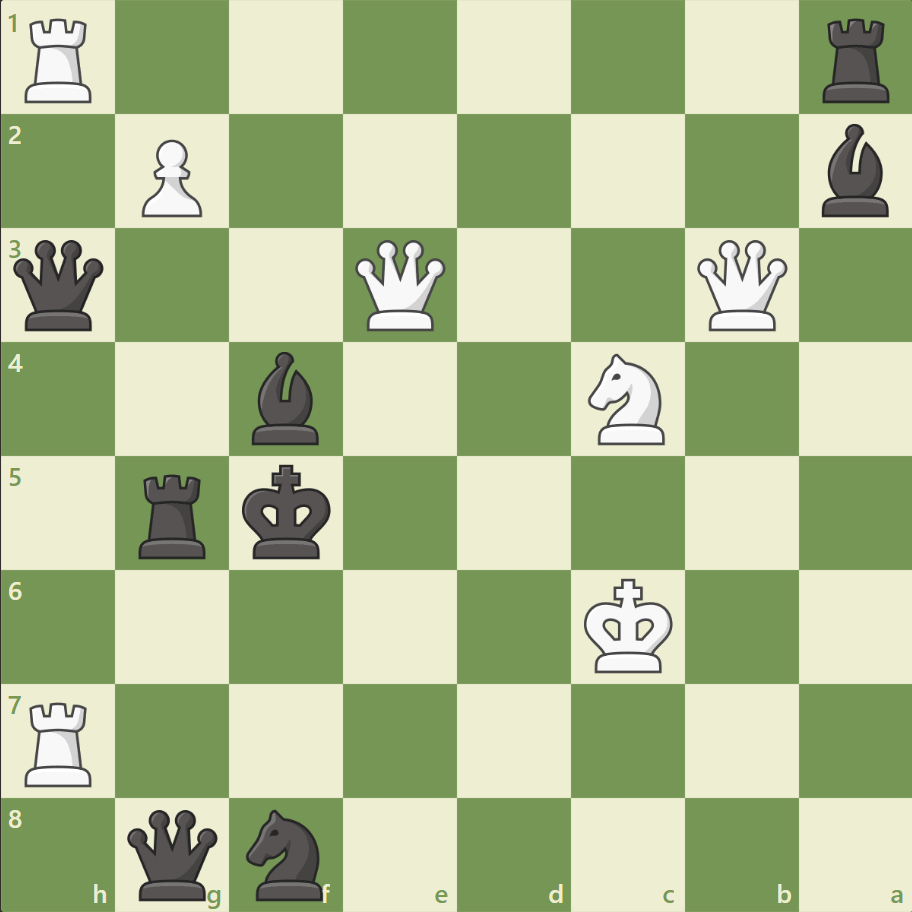K: (579, 571, 679, 679)
N: (579, 348, 676, 450)
P: (133, 132, 208, 223)
Q: (691, 236, 790, 335), (351, 236, 450, 335)
R: (19, 693, 102, 790), (19, 12, 102, 109)
b: (244, 347, 328, 449), (812, 120, 896, 222)
k: (238, 458, 338, 566)
n: (238, 802, 335, 904)
q: (124, 804, 223, 903), (10, 236, 109, 335)
r: (814, 12, 897, 109), (133, 466, 215, 563)
